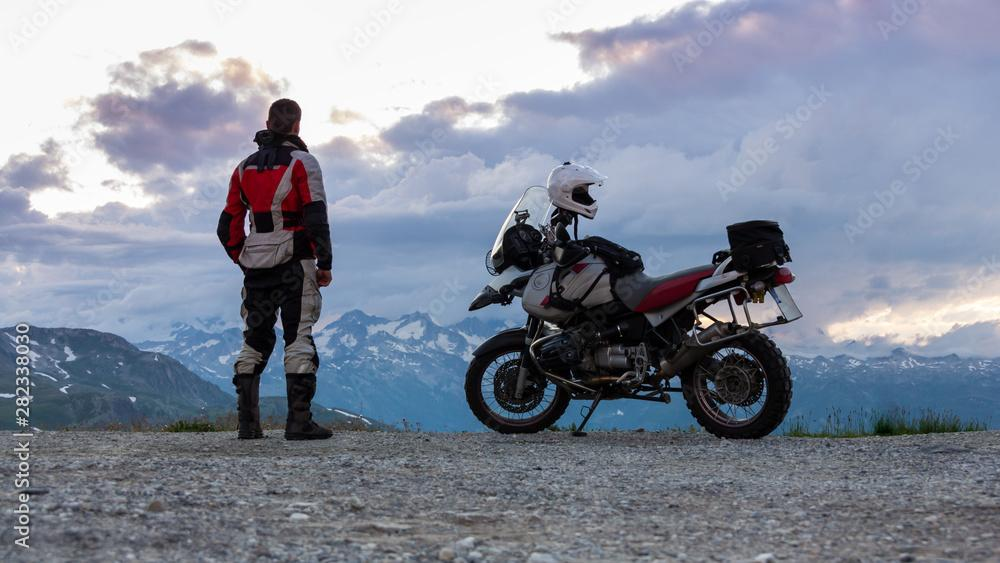helmet: (546, 161, 609, 221)
nohelmet: (265, 97, 303, 138)
